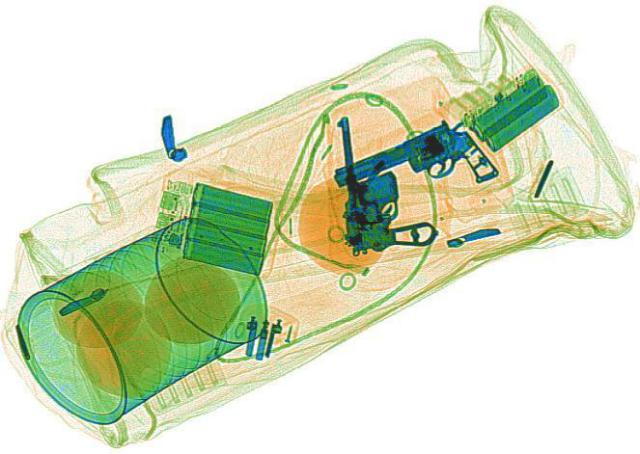Gun: (321, 117, 507, 222), (323, 111, 441, 254)
